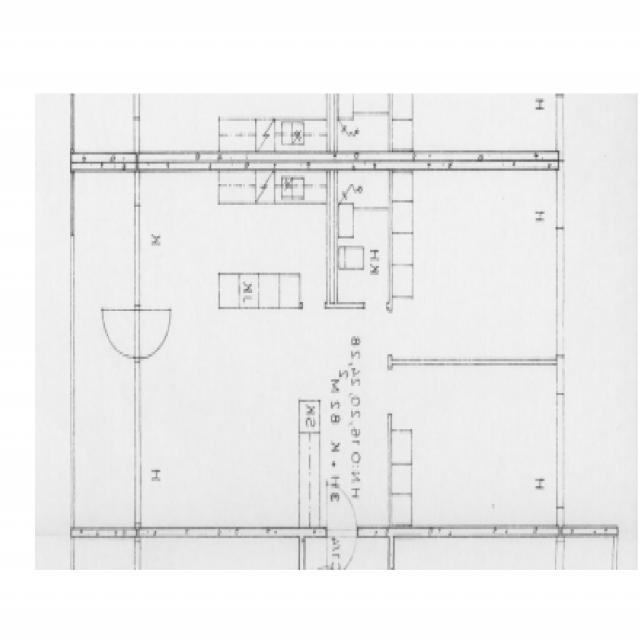door: (101, 310, 141, 361), (134, 310, 174, 361), (327, 528, 356, 586), (327, 481, 356, 539)
